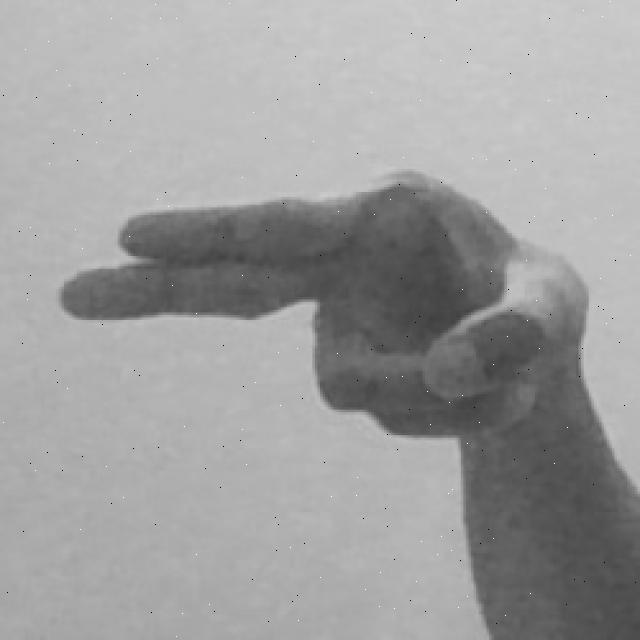H: (51, 158, 637, 640)
